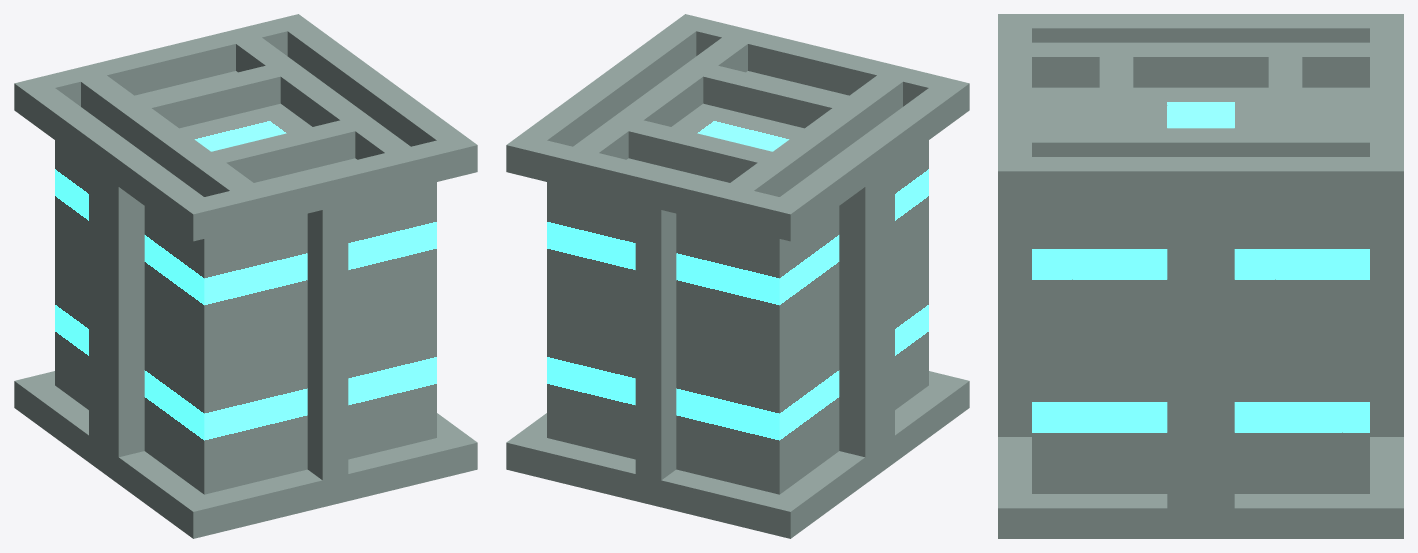
The model's file is Skrzynka_metal_neon.dae.
3 renders of one model, left to right at view 1: azimuth 30°, elevation 25°; view 2: azimuth 150°, elevation 25°; view 3: azimuth 270°, elevation 25°, orthographic. The views are drawn at different scales.
Visible parts, largest first — view 1: Content; view 2: Content; view 3: Content.
Part boxes in pixels (<box>): Content: <box>14,14,477,538</box>; Content: <box>506,14,969,538</box>; Content: <box>998,14,1403,538</box>.
Size of the model in its own units: 11 by 12 by 12.
1 material, 1 textured.
